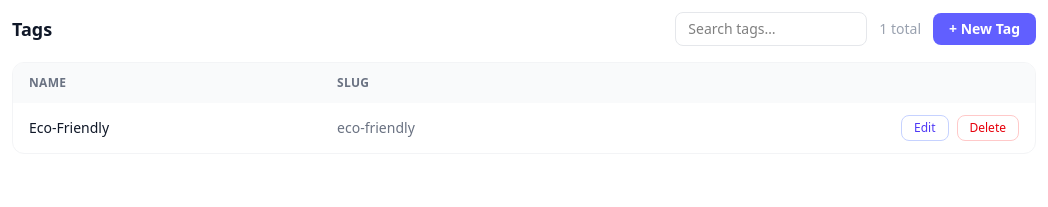
TagsTab › surfaces the backend error message when delete fails
The width and height of the screenshot is (1048, 207).
Check: the text "Eco-Friendly" is shown, box [13,103,321,153]
Click the button "Delete" at [988, 128], box [956,115,1019,141]
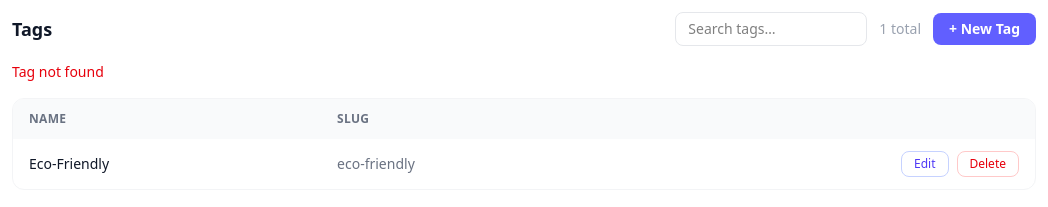
Check: the text "Eco-Friendly" is shown, box [13,139,321,189]
Check: the text "Tag not found" is shown, box [12,62,104,81]
